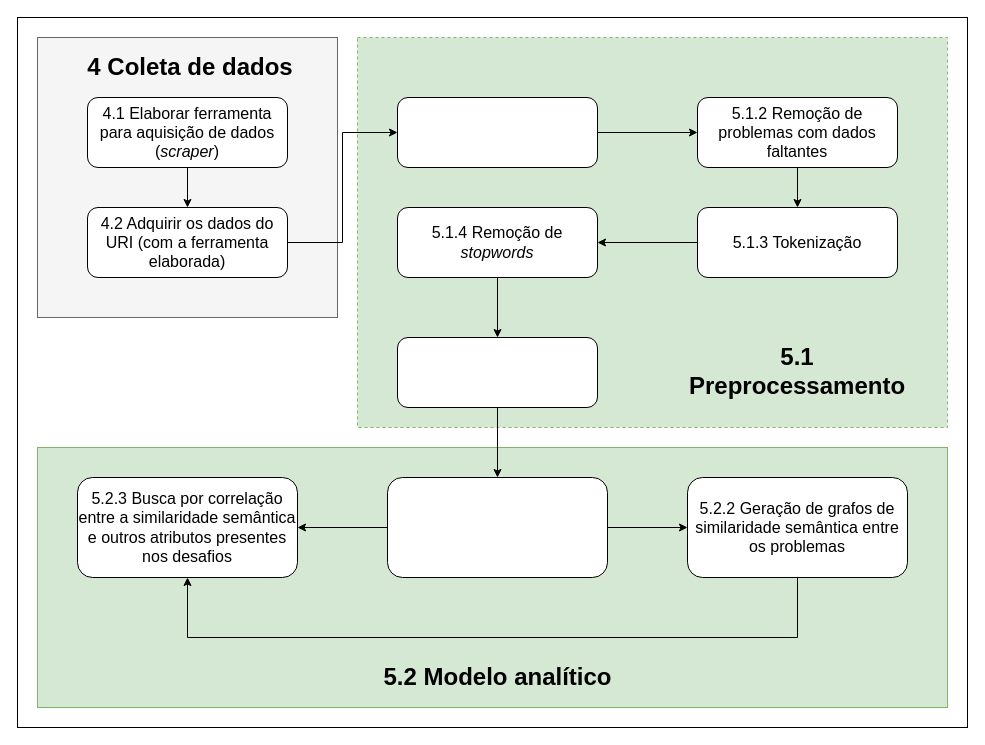
Some shapes in this 985 by 745 pixel diagram are drawn without their labels. The centre of each missing label's shape, as x and y in pixels:
"5.1.1 Leitura e conversão dos dados Extraídos" goes at (x=497, y=132).
"5.1.5 POS tagging e lemmatização" goes at (x=497, y=372).
"5.2.1 Geração de matriz termo-documento" goes at (x=497, y=527).
